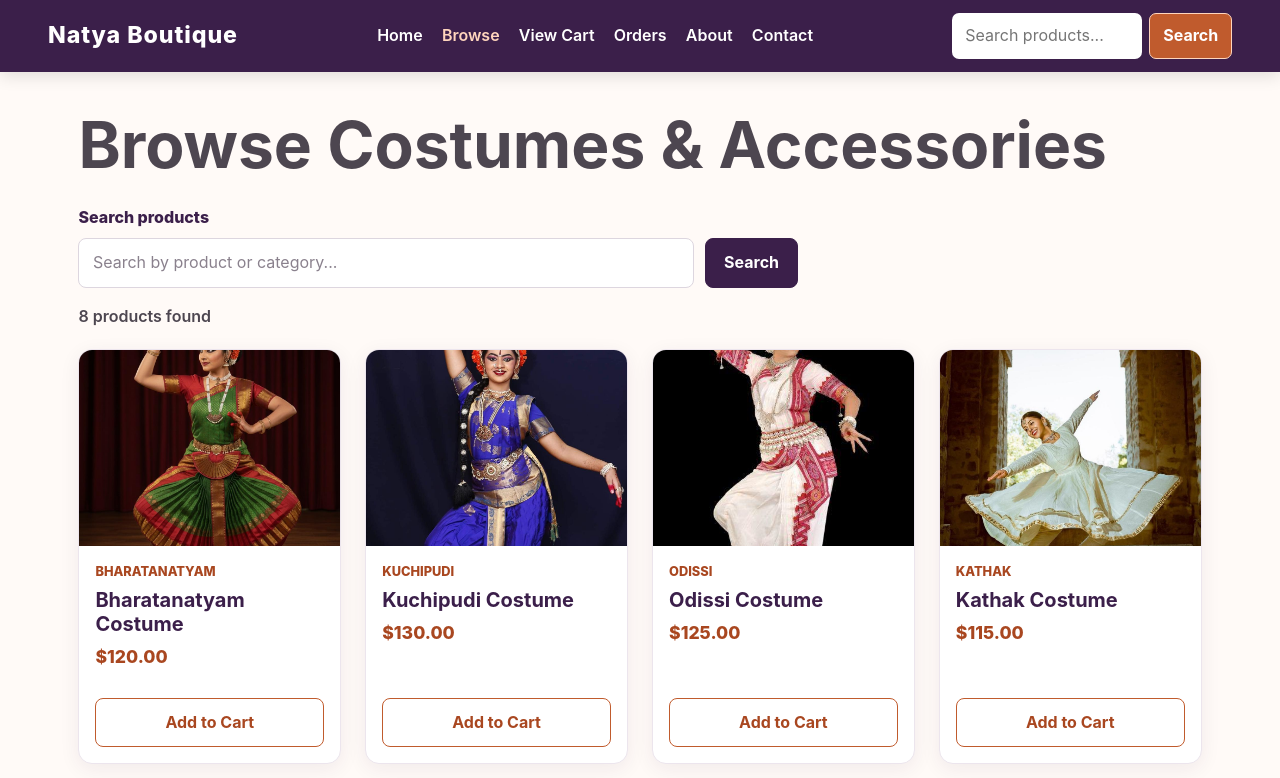
Scenario: Natya Boutique › adds an item, safely bounds quantity, and calculates currency
Step 1. Click the button "Add to Cart" below "120.00" → x=210, y=722, box [95,698,324,748]
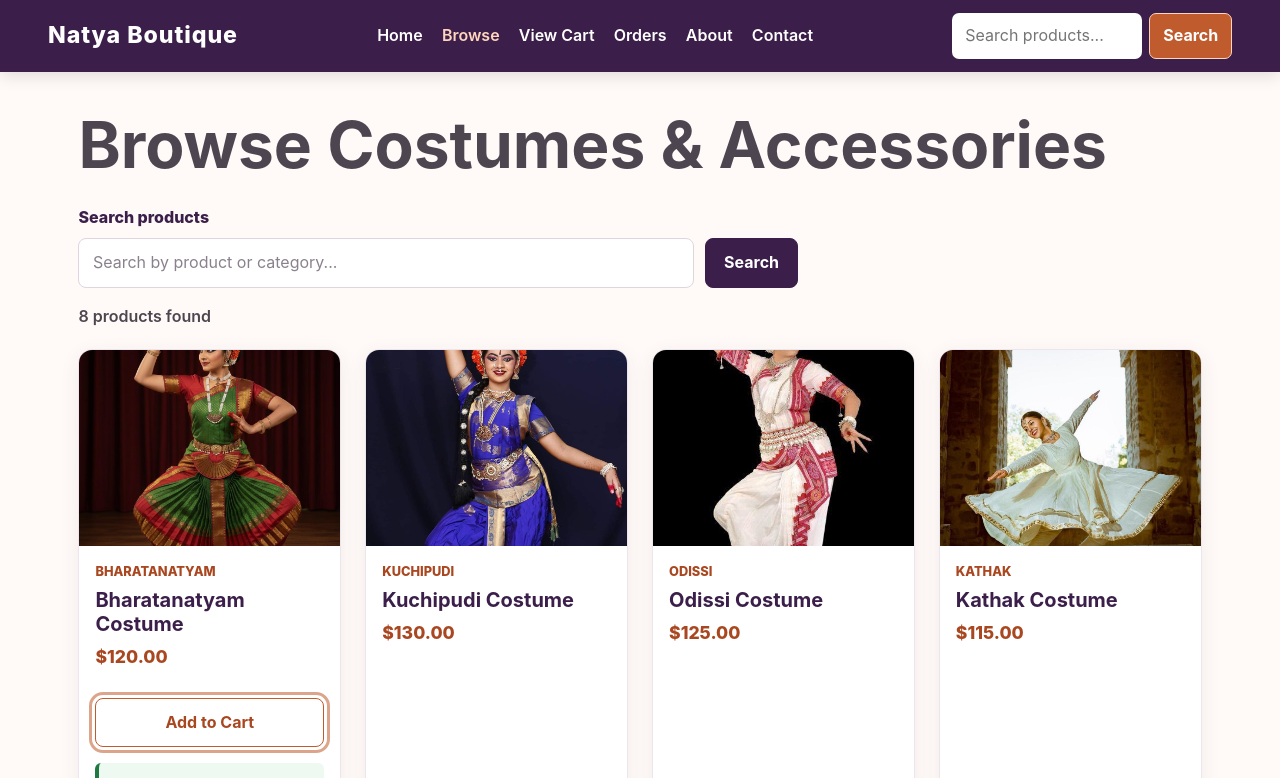
Step 2. Click the link "View Cart" → x=557, y=36, box [519,23,595,49]
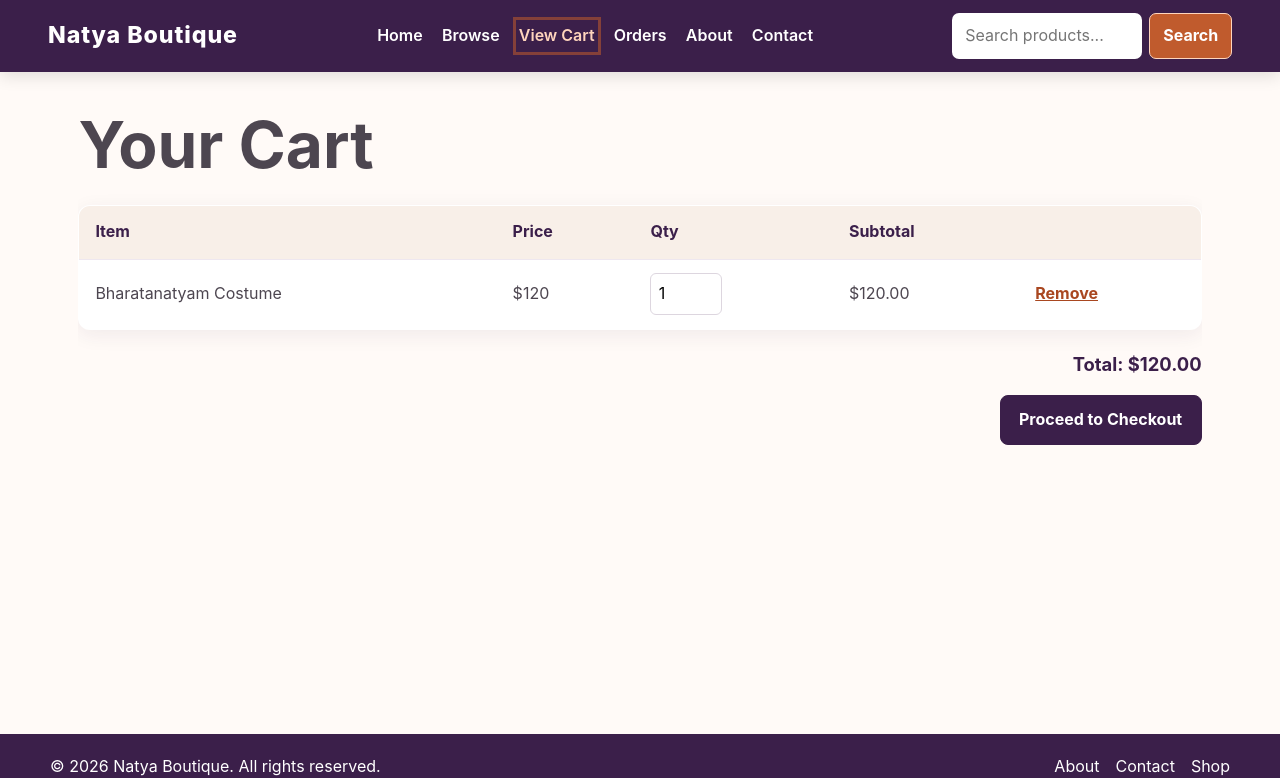
Step 3. Replace the text in the number field with "500" → x=686, y=294, box [650,273,722,315]
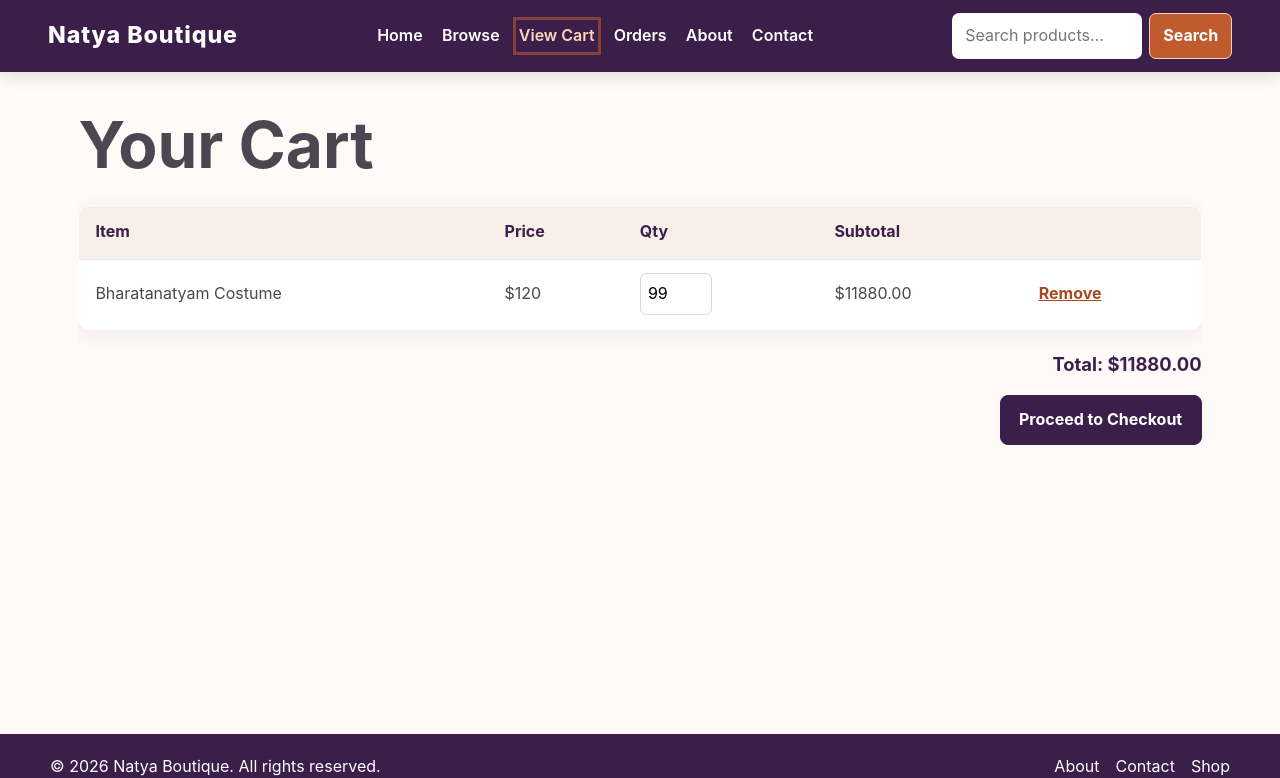
Result: the text "Total: $11880.00" is shown at [1052,353,1202,375]
Result: the number field holds "99" at [640,273,712,315]
